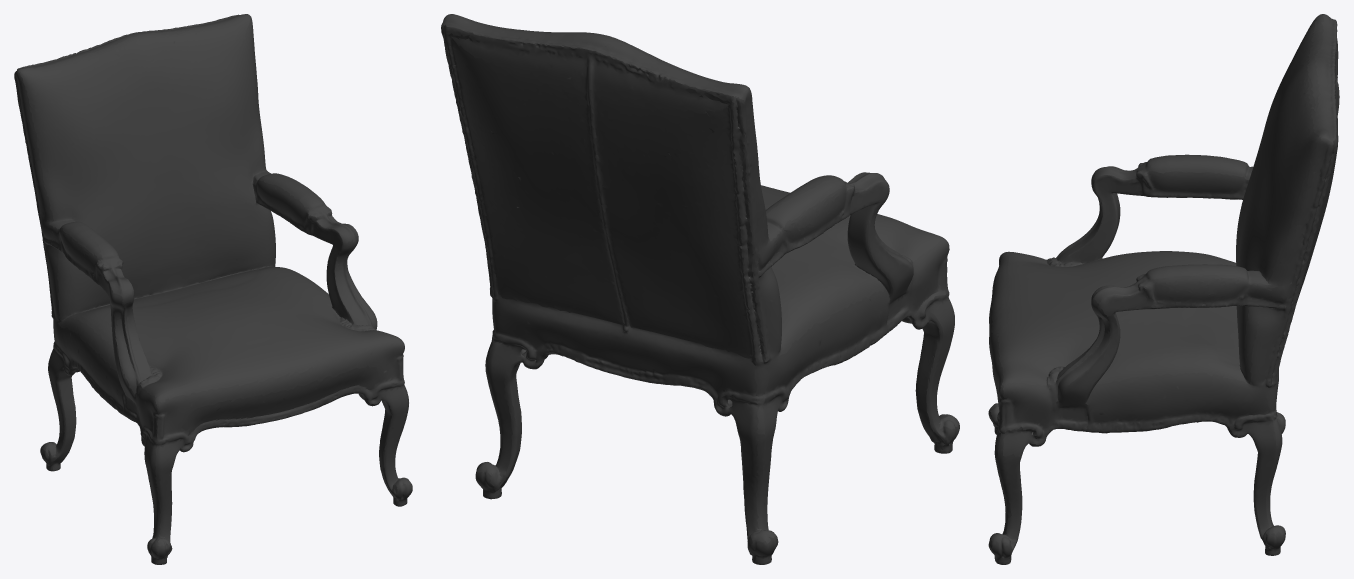
3 renders of one model, left to right at view 1: azimuth 30°, elevation 25°; view 2: azimuth 150°, elevation 25°; view 3: azimuth 270°, elevation 25°, orthographic. The views are drawn at different scales.
Visible parts, largest first — view 1: world; view 2: world; view 3: world.
Boxes of the visible parts, x1,y1,x2,y2 form: world: (14, 14, 412, 564); world: (441, 14, 959, 564); world: (988, 14, 1339, 564).
Size of the model in its own units: 0.7293 by 1.05 by 0.773.
1 material, 1 textured.
